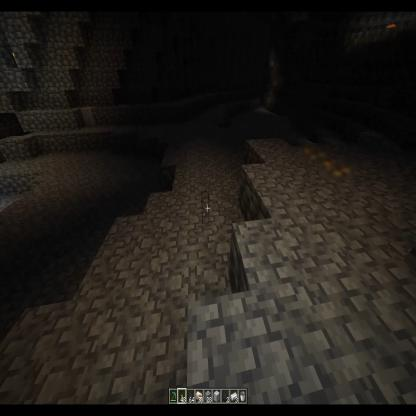gold ore: (320, 156, 358, 180), (299, 143, 327, 161)
